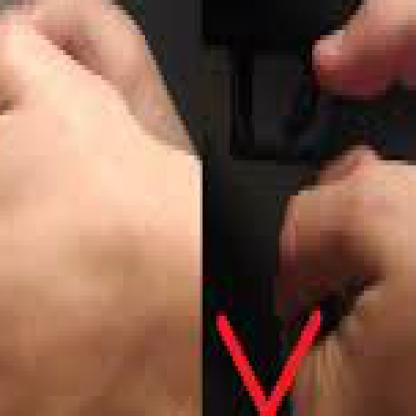gun: (197, 0, 413, 246), (0, 0, 143, 276)
